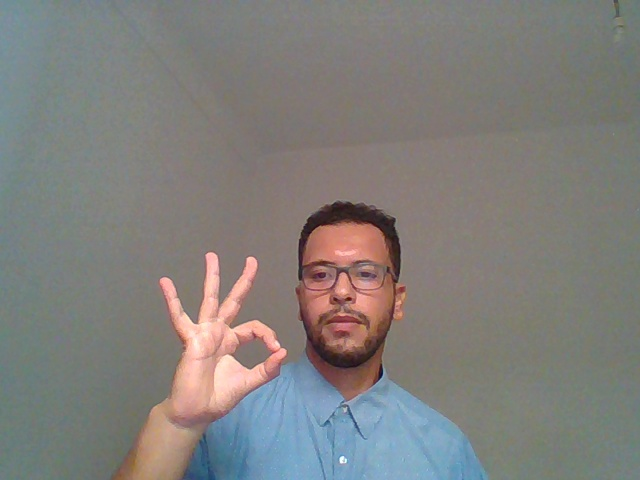okay: (130, 235, 293, 480)
